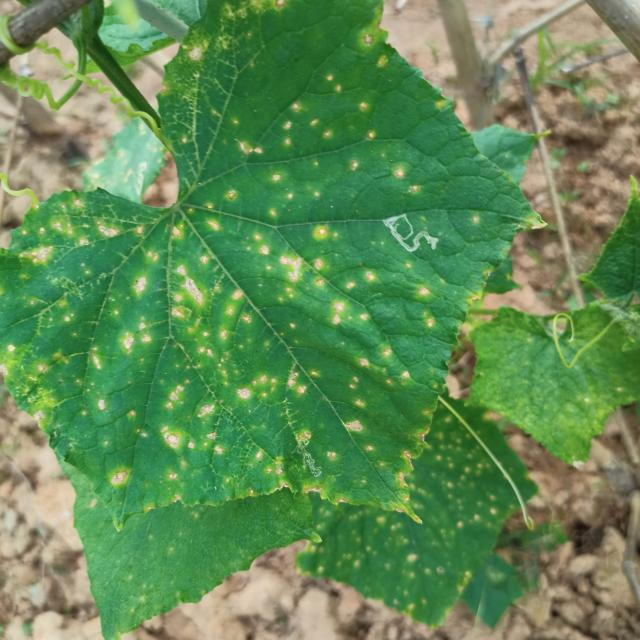disease_cucumber: (32, 43, 450, 516)
